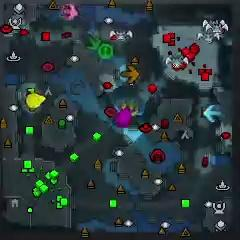p3: (114, 108, 132, 127)
p4: (26, 92, 46, 109)
x1: (62, 4, 80, 20)
x2: (121, 101, 139, 117)
x3: (203, 103, 223, 122)
x4: (85, 34, 102, 52)
x5: (122, 65, 140, 84)
